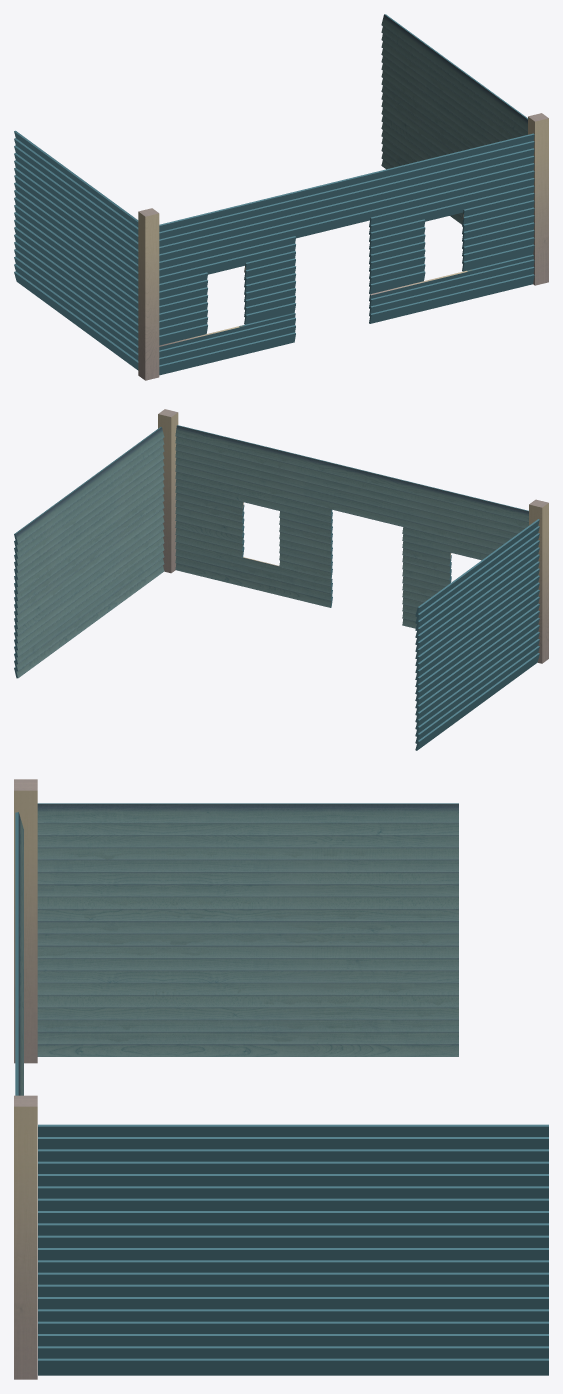
File: wall_siding.fbx
3 renders of one model, top to bottom at view 1: azimuth 30°, elevation 25°; view 2: azimuth 150°, elevation 25°; view 3: azimuth 270°, elevation 25°, orthographic. The views are drawn at different scales.
Parts seen in each view (by area): view 1: polySurface16, polySurface17, polySurface18; view 2: polySurface16, polySurface17, polySurface18; view 3: polySurface16.
Part boxes in pixels (box(x1,y1,x2,y2)): polySurface16: box(14, 14, 548, 380); polySurface17: box(369, 219, 425, 286); polySurface18: box(244, 251, 295, 316); polySurface16: box(14, 409, 548, 750); polySurface17: box(279, 511, 332, 572); polySurface18: box(402, 541, 451, 596); polySurface16: box(14, 779, 548, 1379).
Bounding box in the file's own units: 12.87 × 5 × 8.89.
